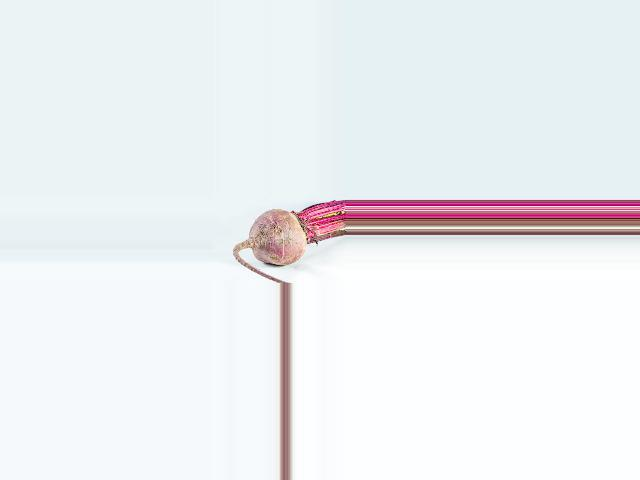beet: (233, 199, 347, 283)
